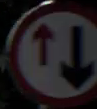Two way: (18, 10, 96, 82)
